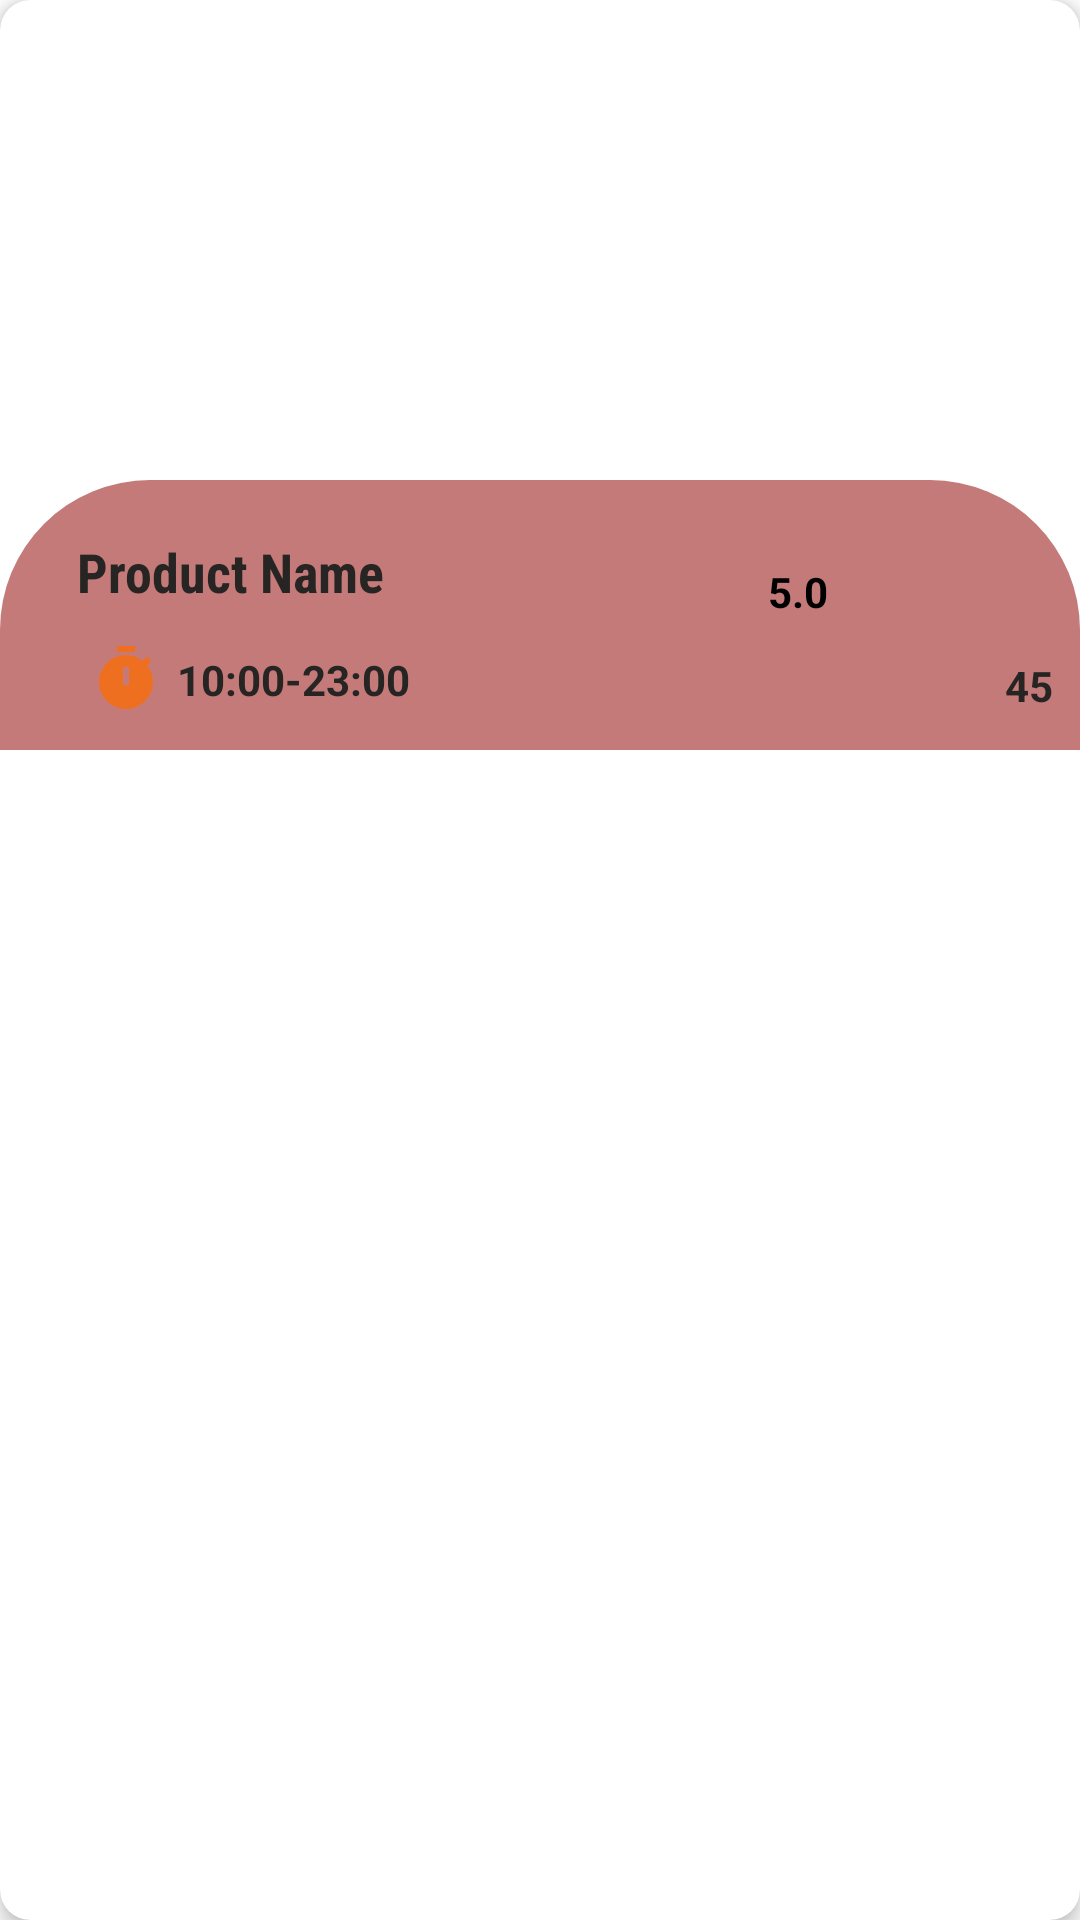

Where icons sit on this 1080 x 1920 app screen, as (x1, y1, x2, y2):
timer: (99, 646, 153, 709)
